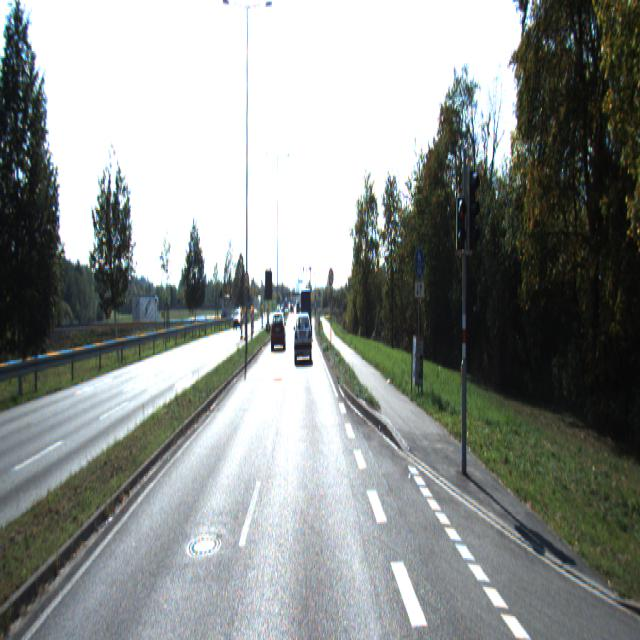Car: (294, 318, 312, 366), (300, 291, 312, 342), (271, 315, 286, 354)
